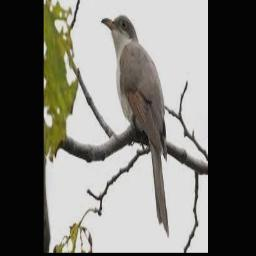Cuckoo: (101, 15, 169, 236)
